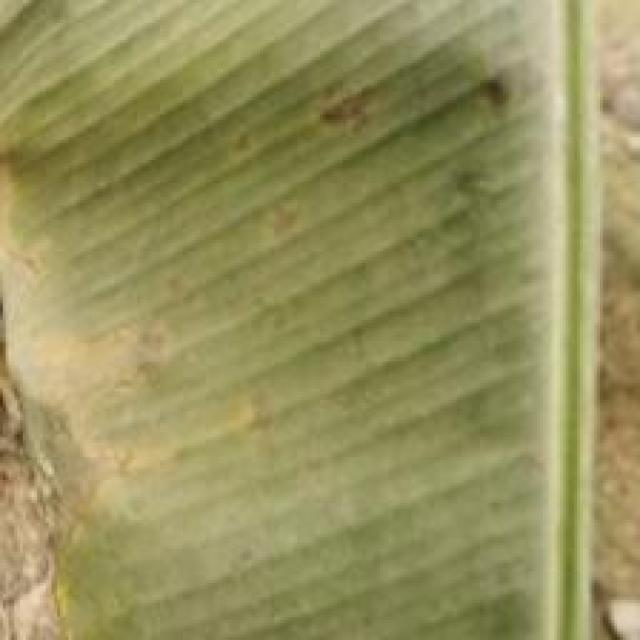Downey_mildrew: (301, 38, 630, 245), (3, 349, 182, 640)
